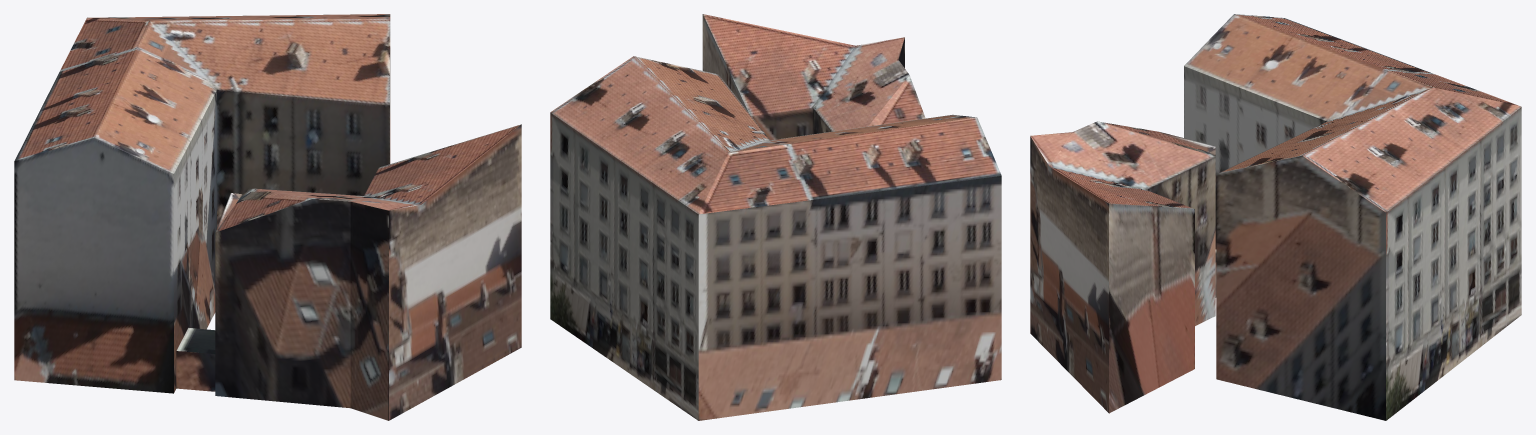
The picture shows the model from 3 angles, left to right: view 1: azimuth 30°, elevation 25°; view 2: azimuth 150°, elevation 25°; view 3: azimuth 270°, elevation 25°; orthographic projection. The views are drawn at different scales.
Visible parts, largest first — view 1: Z_UP; view 2: Z_UP; view 3: Z_UP.
Part boxes in pixels (bbox=[...]): Z_UP: bbox=[14, 14, 521, 420]; Z_UP: bbox=[550, 14, 1001, 420]; Z_UP: bbox=[1030, 14, 1521, 420].
Size of the model in its own units: 41.31 by 23.89 by 43.51.
Materials: 2 (1 with a texture image).
